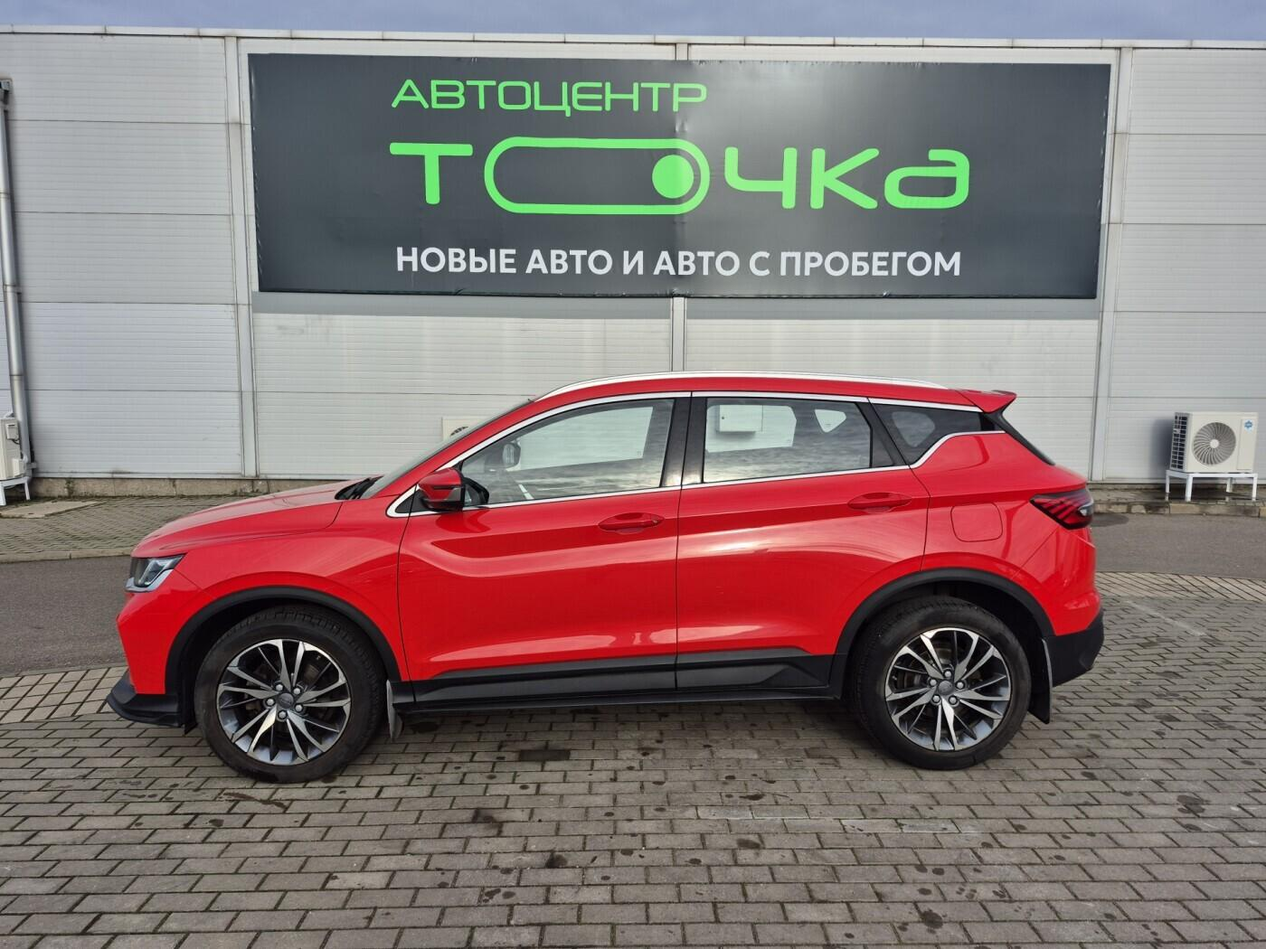Coolray_2019-2023: (106, 364, 1112, 776)
